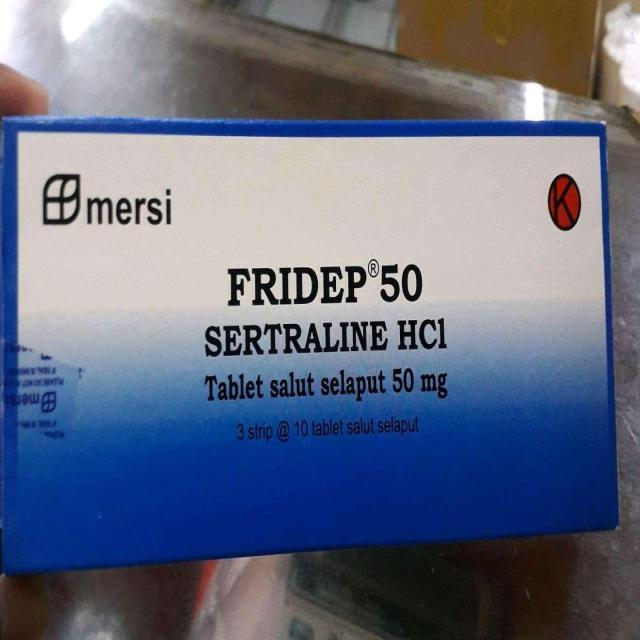drug-name: (220, 258, 428, 308)
